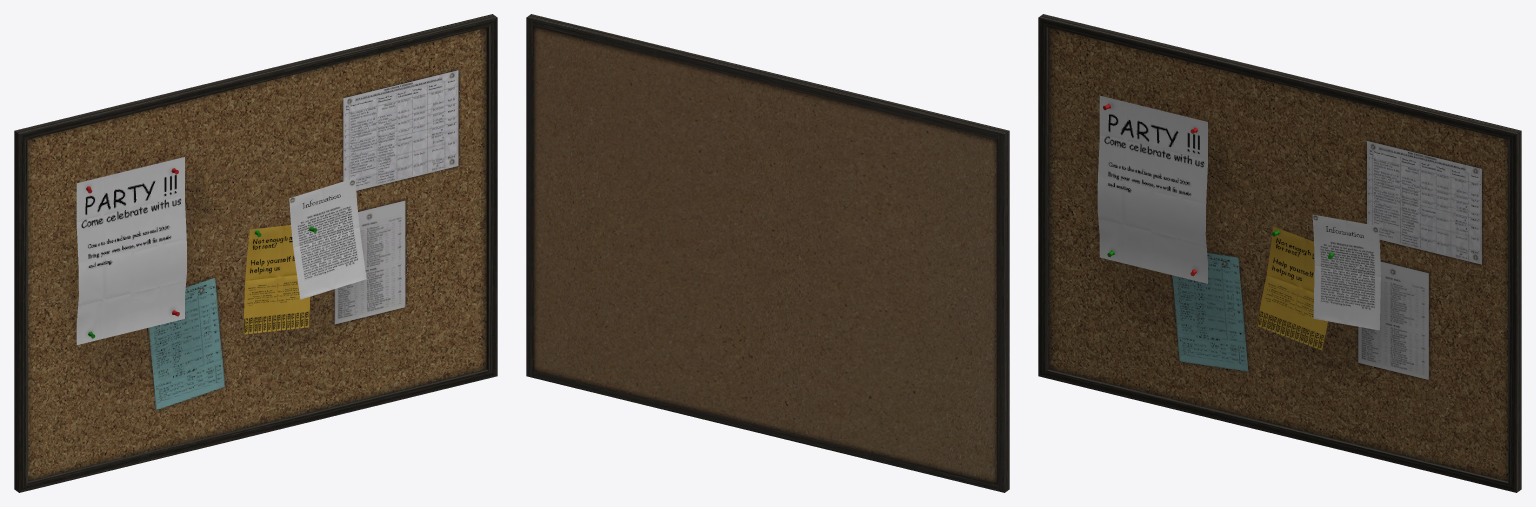
The model's file is student_bulletin_board.dae.
3 renders of one model, left to right at view 1: azimuth 30°, elevation 25°; view 2: azimuth 150°, elevation 25°; view 3: azimuth 330°, elevation 25°, orthographic.
Parts seen in each view (by area): view 1: polySurface1; view 2: polySurface1; view 3: polySurface1.
Boxes of the visible parts, box(x1,y1,x2,y2) form: polySurface1: box(14, 14, 497, 492); polySurface1: box(526, 14, 1009, 492); polySurface1: box(1038, 14, 1521, 492).
Size of the model in its own units: 1.39 by 1 by 0.0395.
